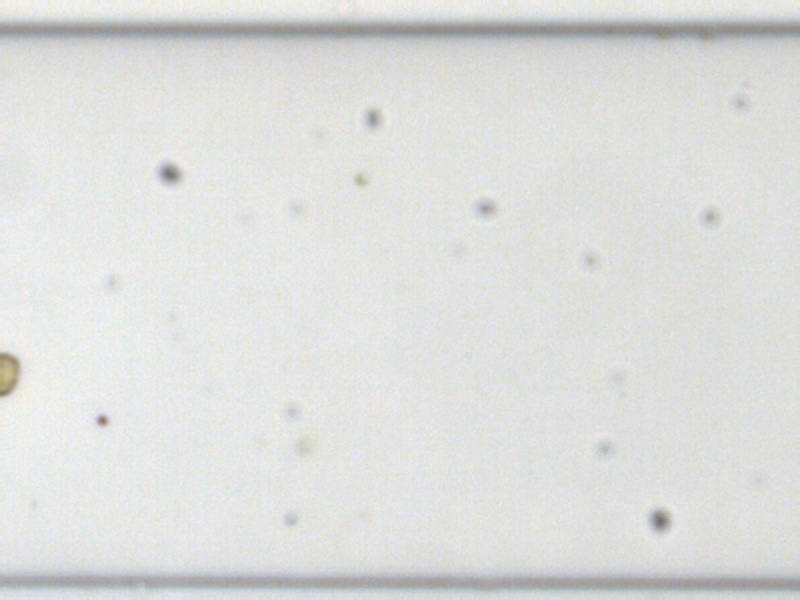Chlorella: (353, 170, 371, 187), (282, 511, 299, 527)
Platymonas: (0, 353, 20, 396)
Porphyridium: (94, 411, 110, 428)
